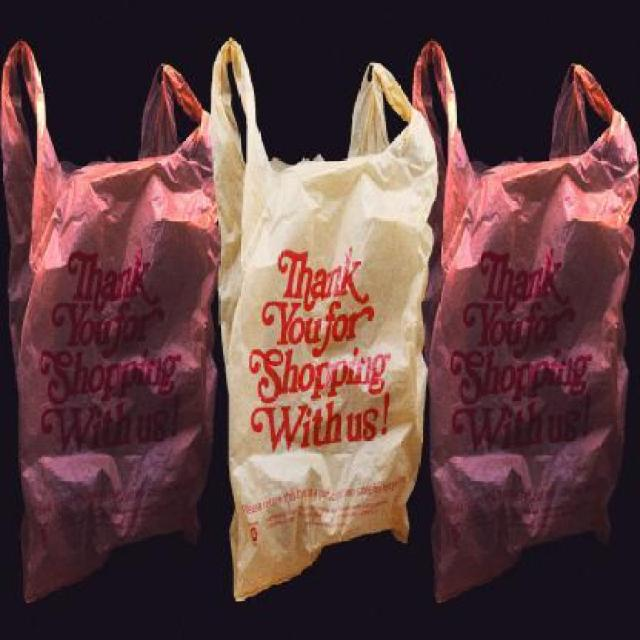plastic bag: (213, 26, 434, 639), (0, 27, 215, 640), (431, 46, 639, 609)
